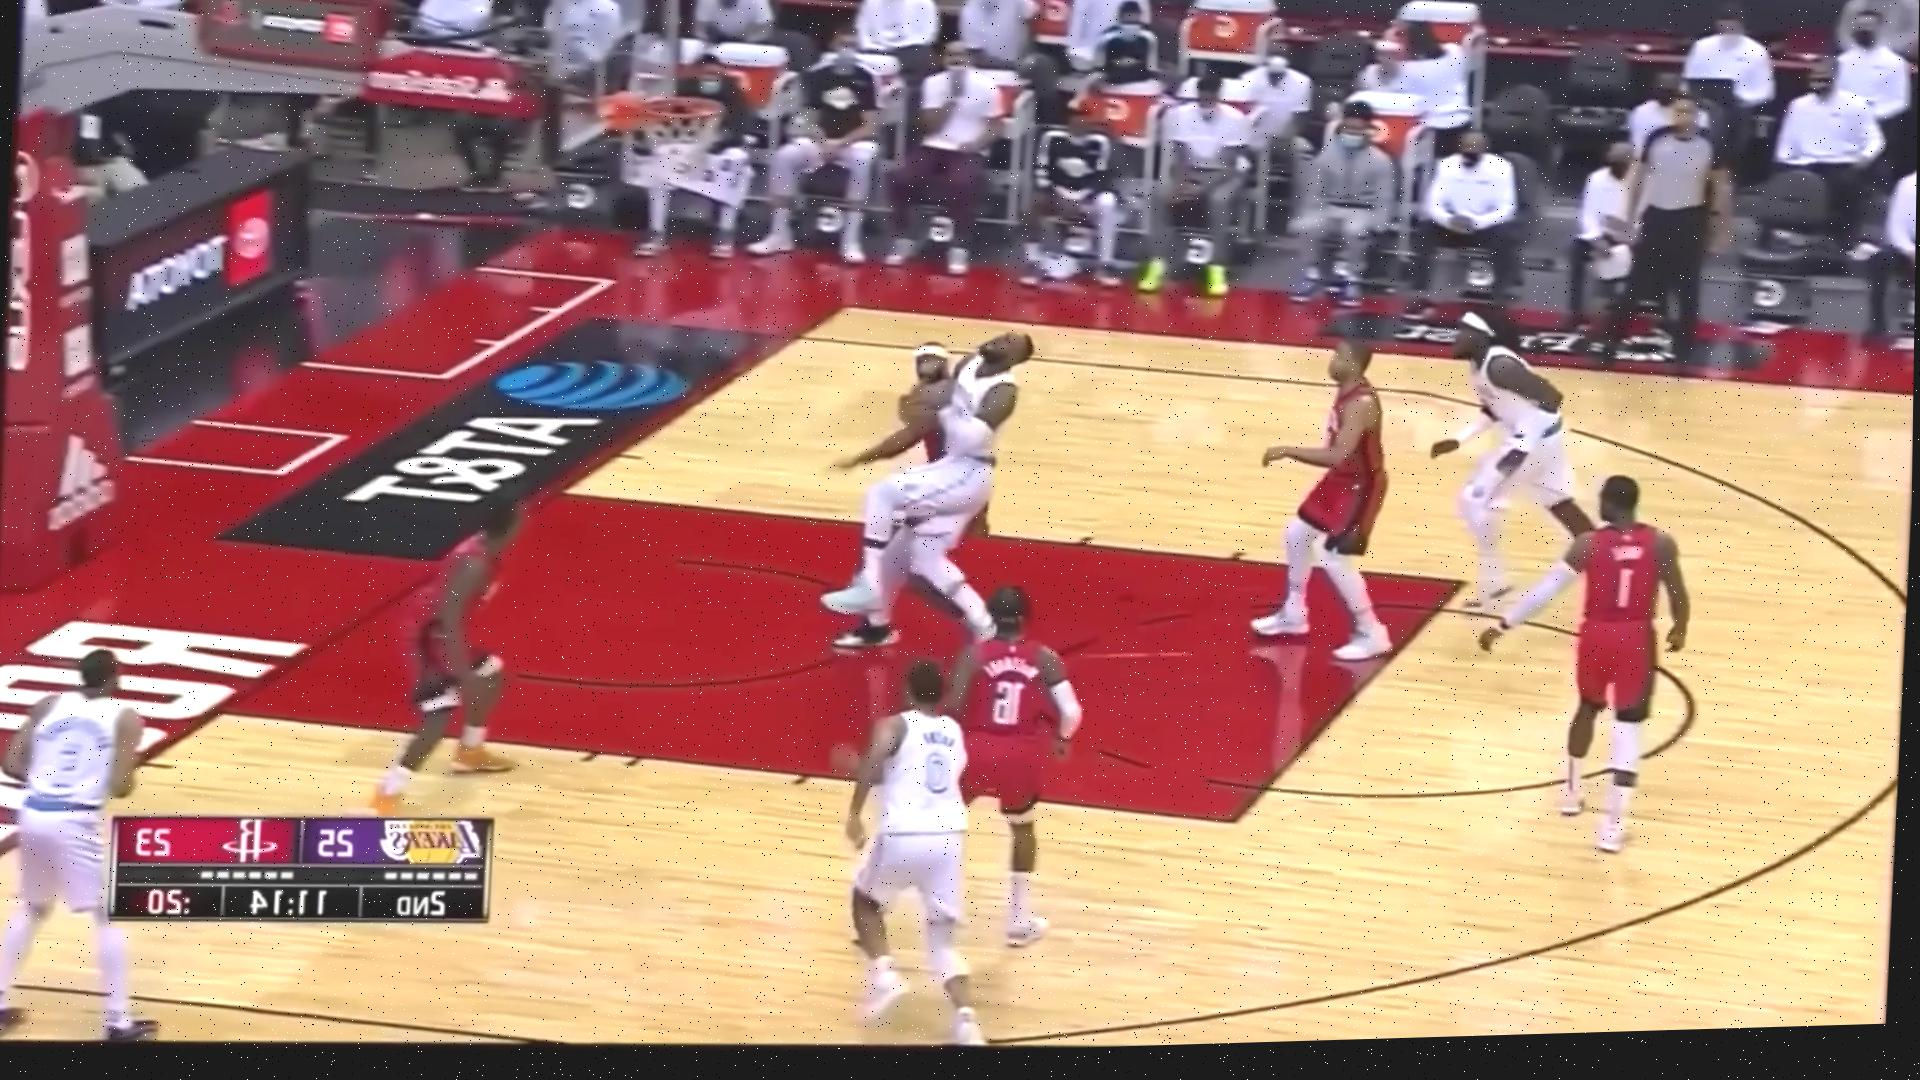foul: (812, 285, 1098, 658)
